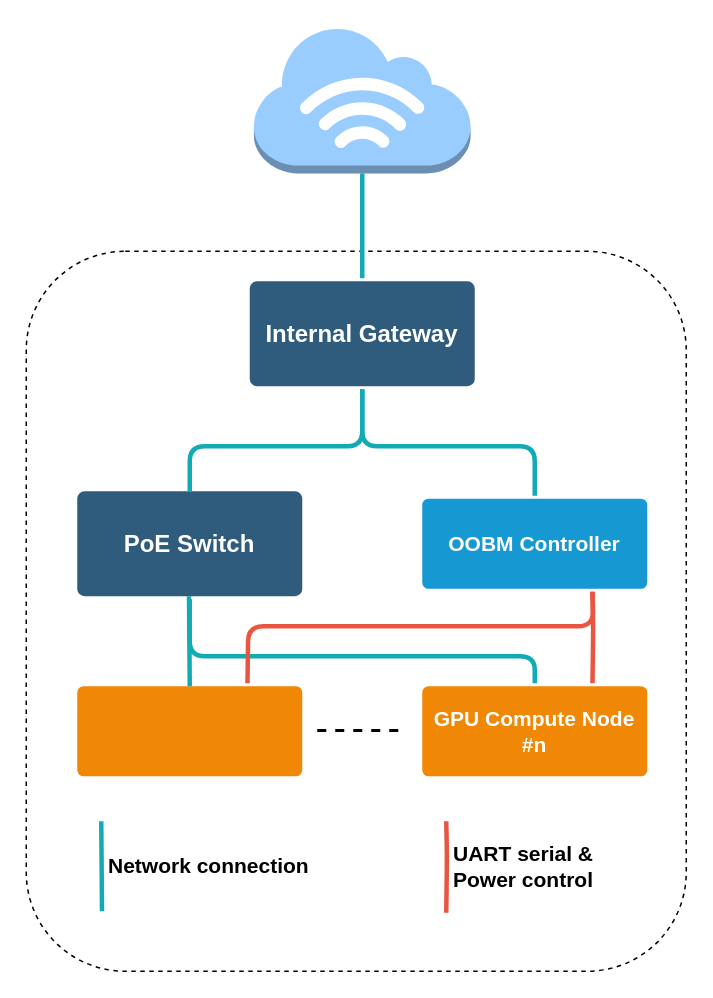
The diagram is 713 pixels wide and 998 high, and some of its shapes have lost their labels. Here are the shapes that lost their labels. From the top down, the centre of each, then its label:
the point at 361,99: Internet
the point at 189,731: GPU Compute Node #1
